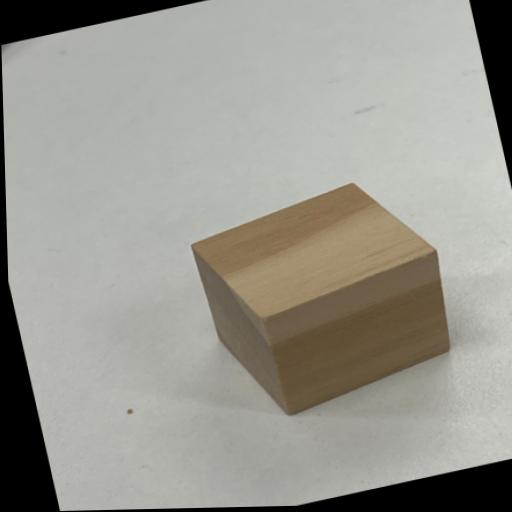wood cube: (192, 184, 450, 414)
